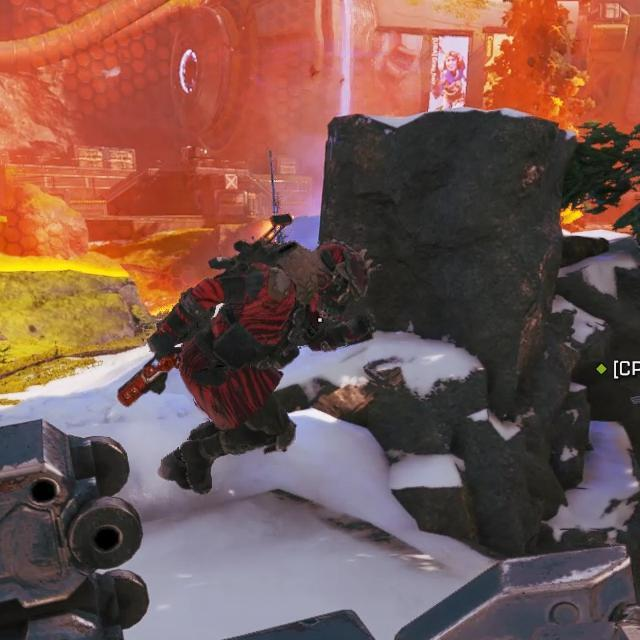avatar: (158, 238, 374, 496)
